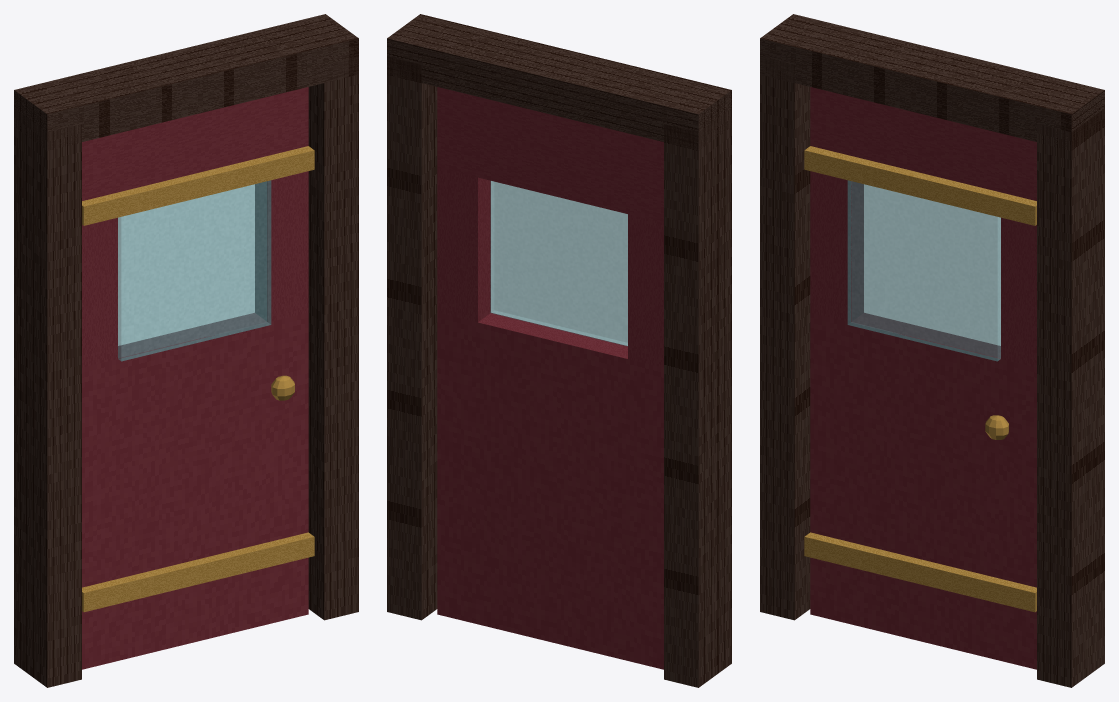
Rendered from sliding_door.glb.
3 renders of one model, left to right at view 1: azimuth 30°, elevation 25°; view 2: azimuth 150°, elevation 25°; view 3: azimuth 330°, elevation 25°, orthographic.
Parts seen in each view (by area): view 1: frame (×2), door_bottom, window, lintel, door_top, window_side (×2), strap (×2); view 2: door_bottom, frame (×2), lintel, door_top, window, window_side (×2); view 3: frame (×2), door_bottom, window, lintel, door_top, window_side (×2), strap (×2).
Part boxes in pixels (bbox=[...]): frame (×2): bbox=[14, 57, 358, 687]; door_bottom: bbox=[82, 312, 308, 669]; window: bbox=[118, 180, 271, 361]; lintel: bbox=[14, 14, 358, 148]; door_top: bbox=[82, 87, 308, 200]; window_side (×2): bbox=[82, 171, 308, 367]; strap (×2): bbox=[82, 146, 314, 612]; door_bottom: bbox=[437, 312, 663, 669]; frame (×2): bbox=[387, 56, 731, 687]; lintel: bbox=[387, 14, 731, 150]; door_top: bbox=[437, 87, 663, 222]; window: bbox=[490, 181, 627, 346]; window_side (×2): bbox=[437, 167, 663, 367]; frame (×2): bbox=[760, 56, 1104, 687]; door_bottom: bbox=[810, 312, 1036, 669]; window: bbox=[847, 180, 1000, 361]; lintel: bbox=[760, 14, 1104, 149]; door_top: bbox=[810, 87, 1036, 200]; window_side (×2): bbox=[810, 171, 1036, 367]; strap (×2): bbox=[804, 146, 1036, 612].
Size of the model in its own units: 1.35 by 2.38 by 0.2812.
Materials: 2 (2 with a texture image).
